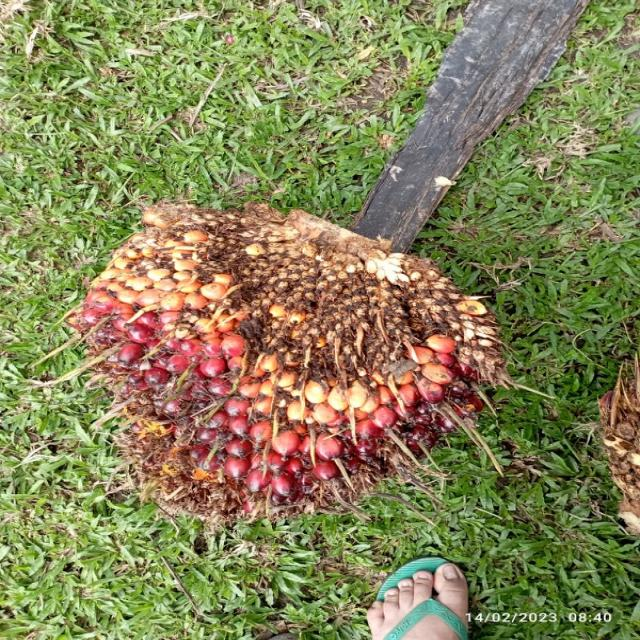fraksi 1: (43, 166, 524, 553)
